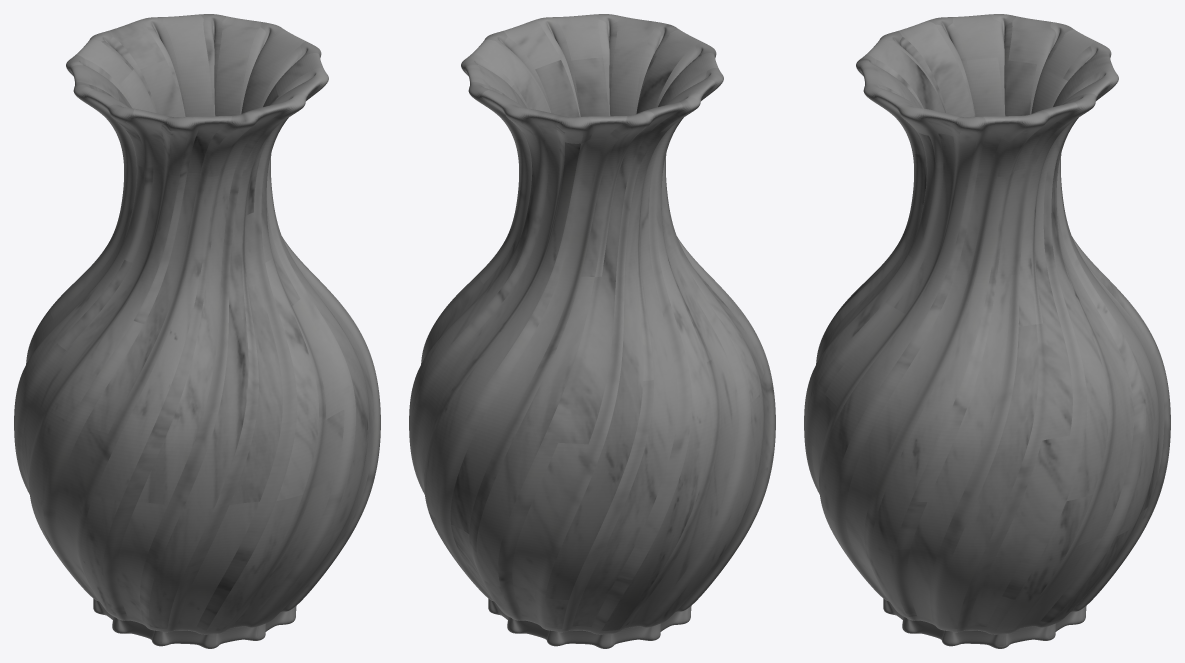
The model's file is Vase.fbx.
3 views of the same model, side by side, from view 1: azimuth 30°, elevation 25°; view 2: azimuth 150°, elevation 25°; view 3: azimuth 270°, elevation 25° (orthographic).
Parts seen in each view (by area): view 1: Cube.001; view 2: Cube.001; view 3: Cube.001.
Part boxes in pixels (left/top/right/bottom): Cube.001: left=14, top=14, right=380, bottom=648; Cube.001: left=409, top=14, right=775, bottom=648; Cube.001: left=804, top=14, right=1170, bottom=648.
Size of the model in its own units: 734 by 1197 by 734.
Materials: 1 (1 with a texture image).
